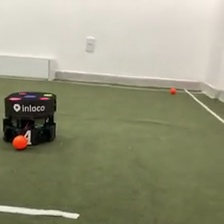ball: (11, 133, 29, 151), (169, 85, 177, 95)
goal: (1, 53, 58, 83)
robot: (1, 90, 59, 146)
